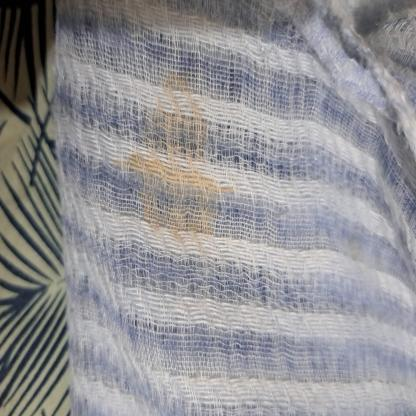spot: (107, 48, 228, 276)
